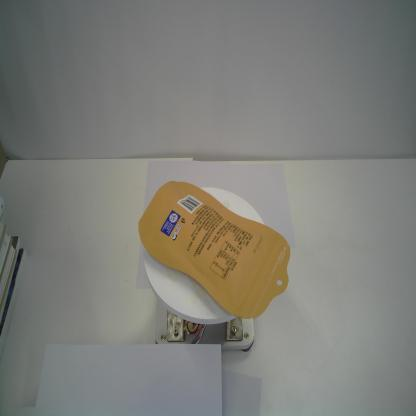Dried Fruit: (137, 180, 292, 319)
